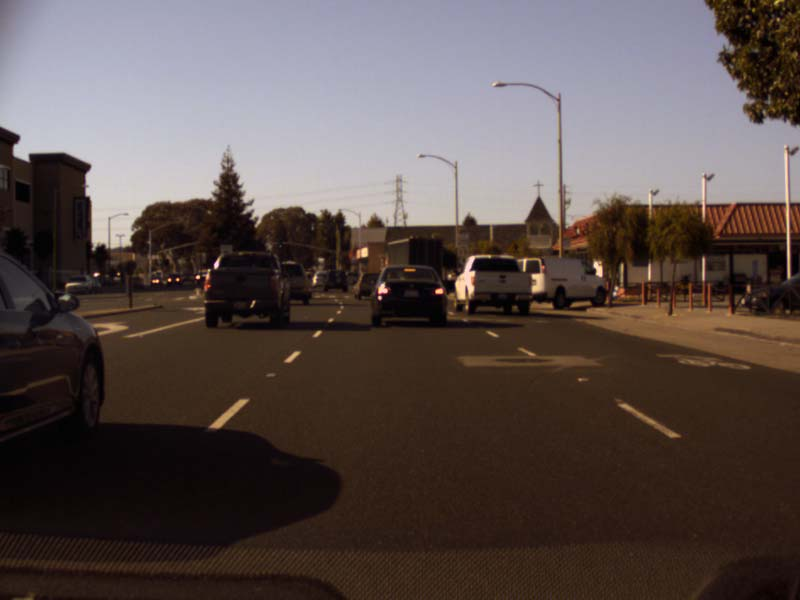Green: (278, 240, 281, 248)
